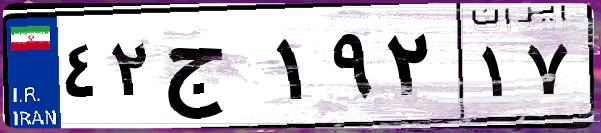1: (270, 28, 330, 110), (475, 38, 525, 113)
2: (385, 28, 445, 110), (110, 28, 158, 98)
4: (57, 26, 110, 100)
7: (525, 38, 570, 115)
9: (330, 28, 385, 110)
ج: (158, 20, 270, 120)
